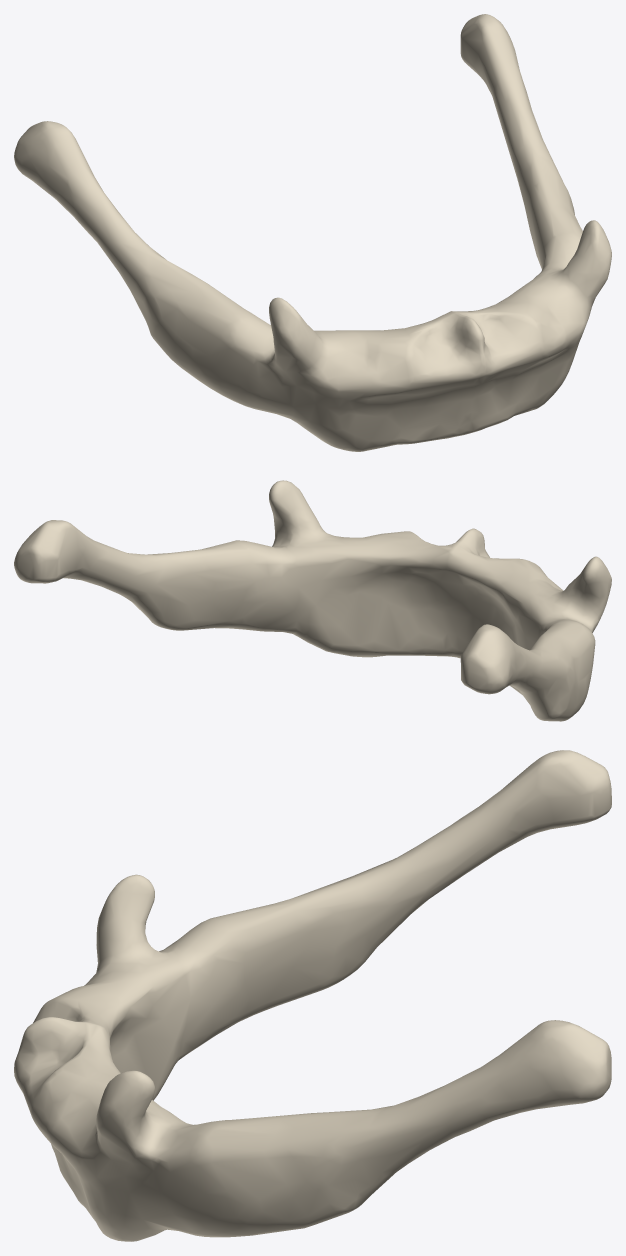
The model's file is region-1.glb.
The picture shows the model from 3 angles, top to bottom: view 1: azimuth 30°, elevation 25°; view 2: azimuth 150°, elevation 25°; view 3: azimuth 270°, elevation 25°; orthographic projection. The views are drawn at different scales.
Visible parts, largest first — view 1: bone_hyoid_M; view 2: bone_hyoid_M; view 3: bone_hyoid_M.
Part boxes in pixels (<box>): bone_hyoid_M: <box>14,14,611,451</box>; bone_hyoid_M: <box>14,480,611,721</box>; bone_hyoid_M: <box>14,750,611,1241</box>.
Bounding box in the file's own units: 0.0419 × 0.0189 × 0.0348.
